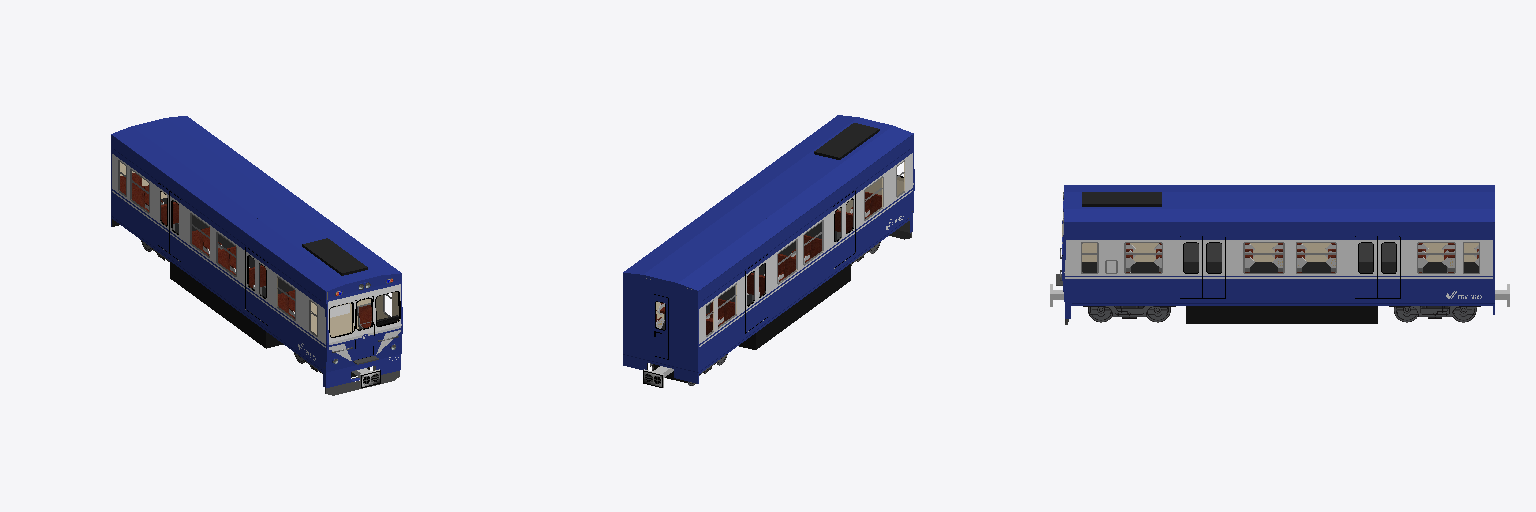
3 views of the same model, side by side, from view 1: azimuth 30°, elevation 25°; view 2: azimuth 150°, elevation 25°; view 3: azimuth 270°, elevation 25° (orthographic).
Parts seen in each view (by area): view 1: body, body_inside, bogies, pantograph, door_RB, door_RF; view 2: body, body_inside, bogies, pantograph, door_RF, door_RB; view 3: body, bogies, body_inside, door_LB, door_LF, pantograph, door_RB_inside, door_RF_inside.
Boxes of the visible parts, x1=… form: body: x1=111, y1=116, x2=402, y2=395; body_inside: x1=112, y1=161, x2=399, y2=337; bogies: x1=141, y1=240, x2=380, y2=387; pantograph: x1=302, y1=238, x2=367, y2=275; door_RB: x1=158, y1=183, x2=256, y2=317; door_RF: x1=170, y1=191, x2=267, y2=325; body: x1=623, y1=115, x2=914, y2=383; body_inside: x1=647, y1=162, x2=904, y2=369; bogies: x1=643, y1=242, x2=880, y2=387; pantograph: x1=814, y1=123, x2=879, y2=159; door_RF: x1=757, y1=190, x2=855, y2=324; door_RB: x1=745, y1=199, x2=843, y2=333; body: x1=1060, y1=185, x2=1494, y2=324; bogies: x1=1050, y1=274, x2=1509, y2=323; body_inside: x1=1062, y1=224, x2=1478, y2=272; door_LB: x1=1180, y1=236, x2=1377, y2=298; door_LF: x1=1203, y1=236, x2=1400, y2=298; pantograph: x1=1082, y1=192, x2=1161, y2=206; door_RB_inside: x1=1207, y1=243, x2=1395, y2=261; door_RF_inside: x1=1184, y1=243, x2=1372, y2=261.
Size of the model in its own units: 2.37 by 3.46 by 12.43.
46 materials, 42 textured.